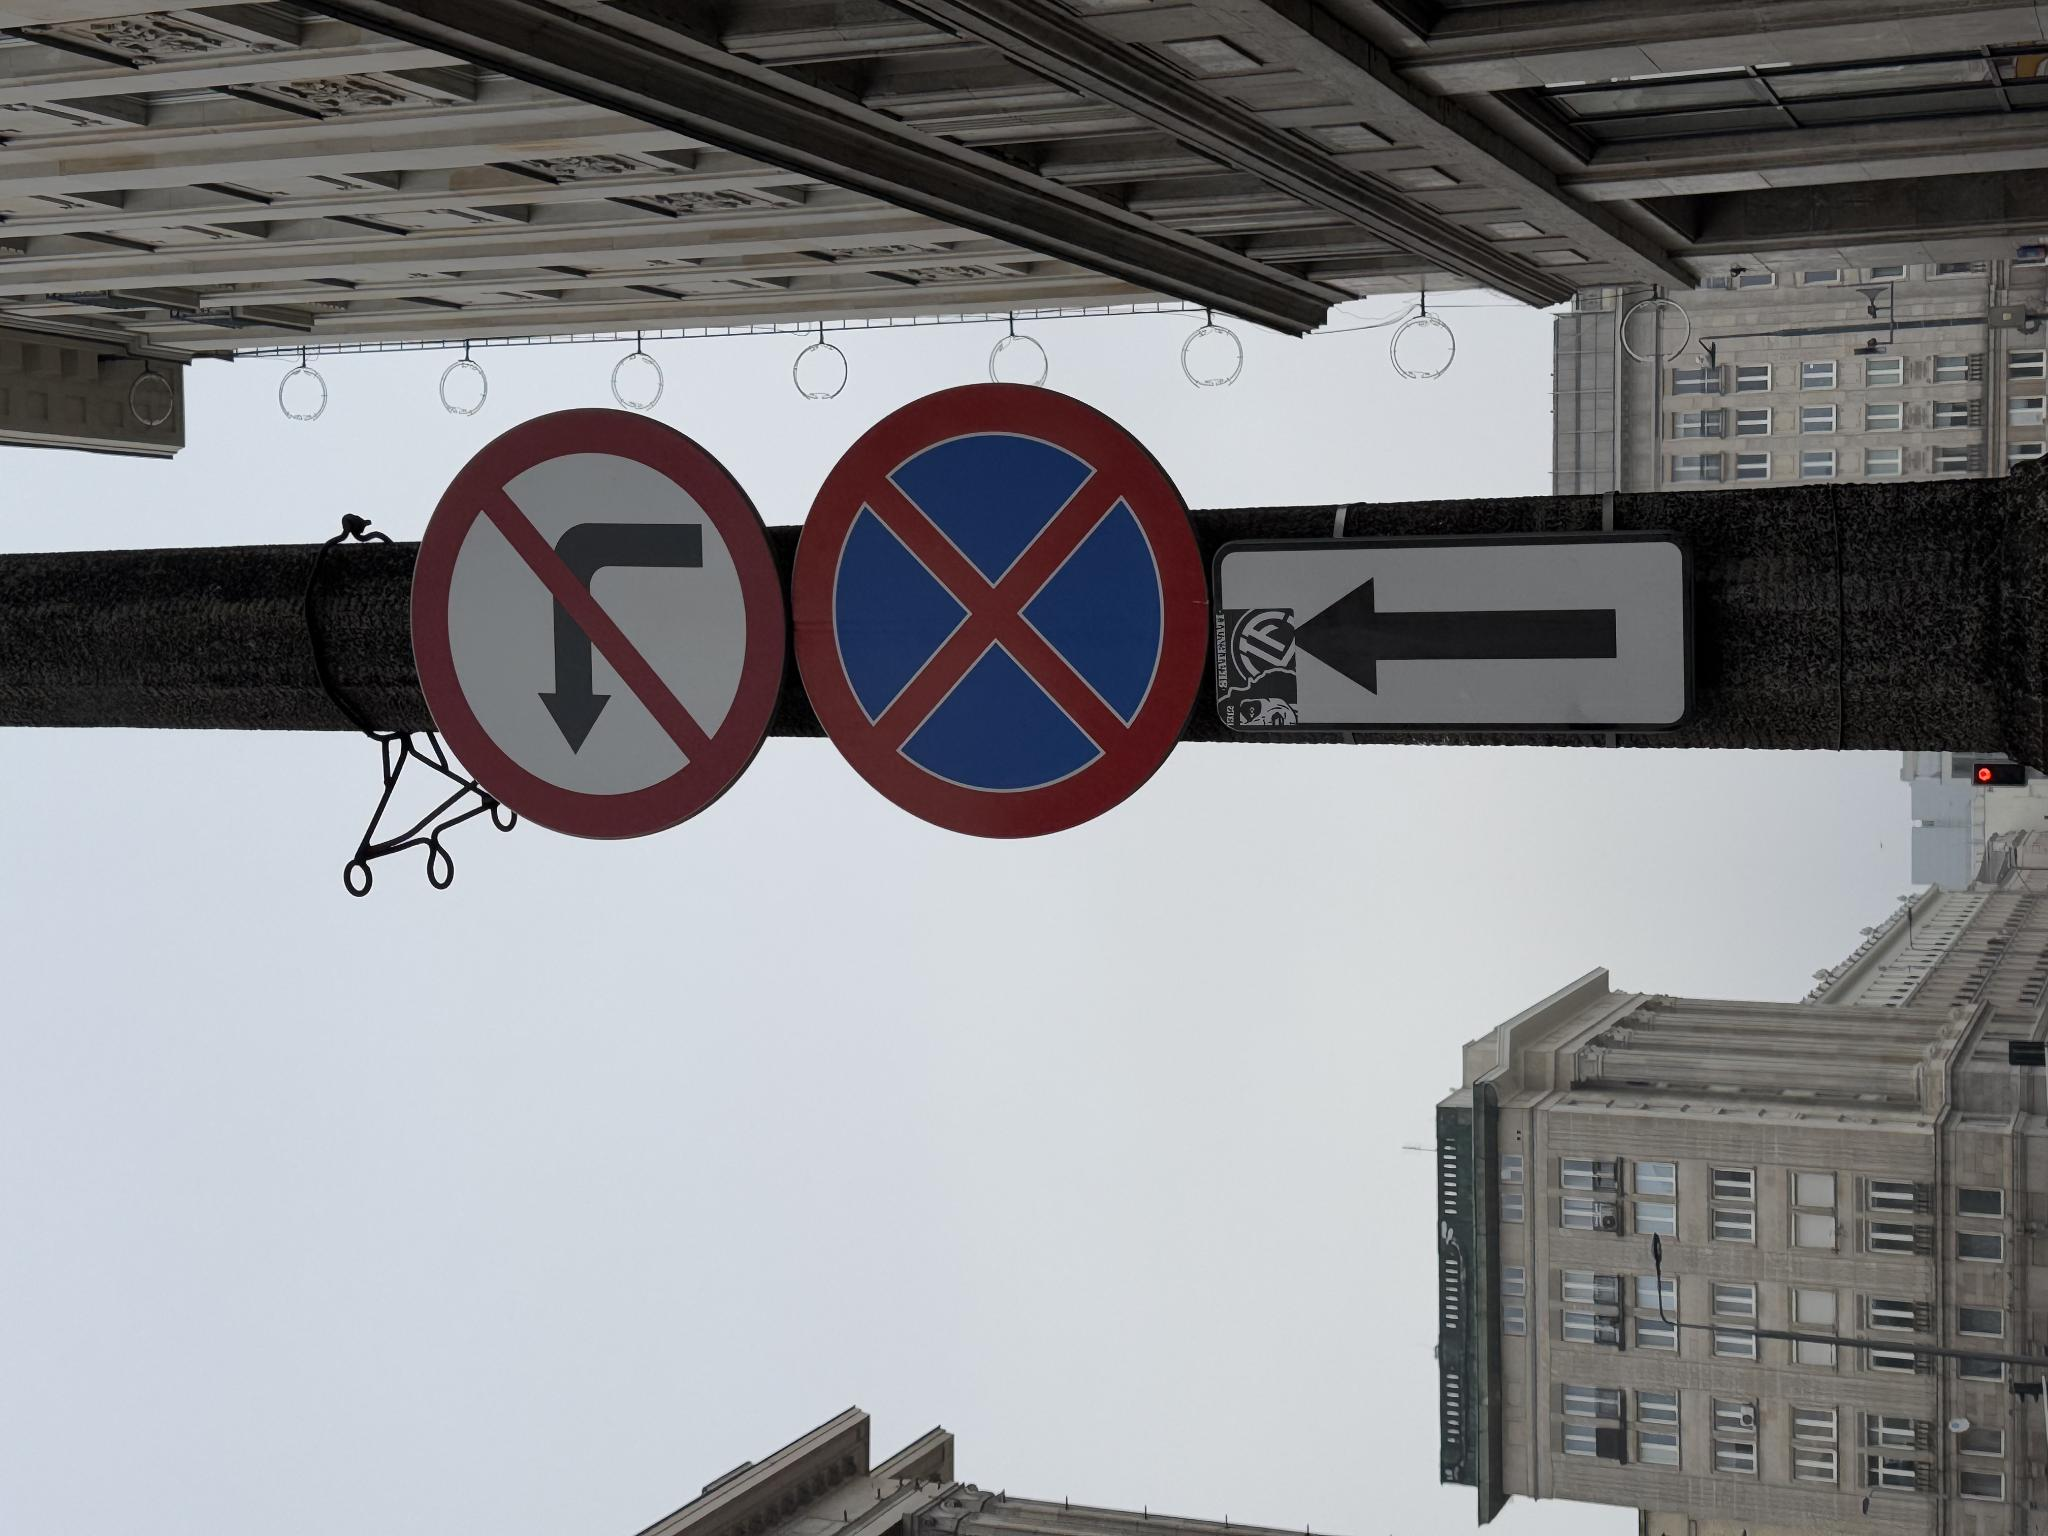other: (805, 1212, 1005, 1536)
prohibitory: (693, 789, 1158, 1218), (692, 402, 1135, 787)
